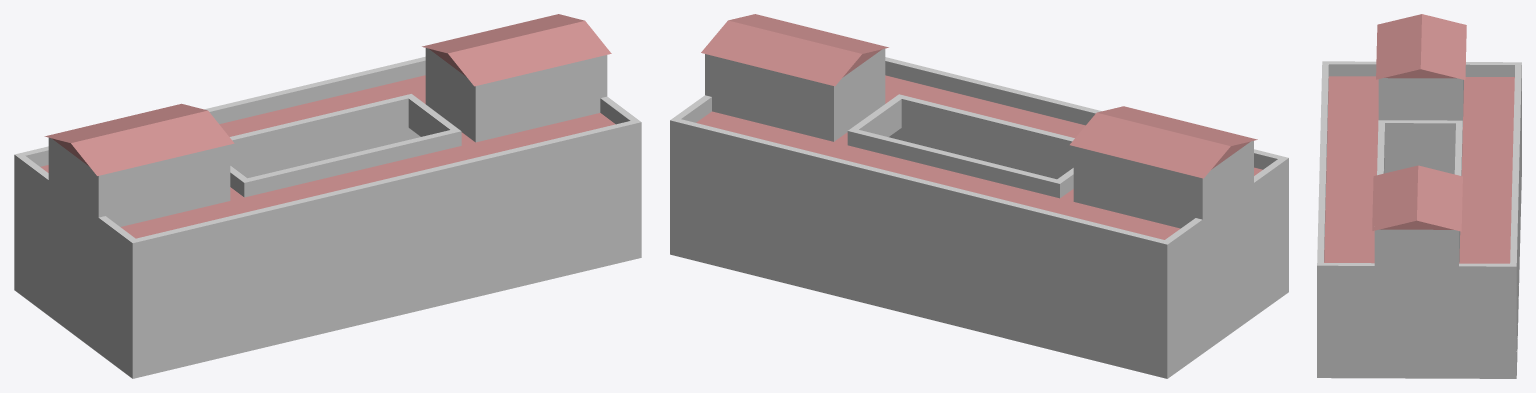
File: LOD_Block_0_80.glb
The picture shows the model from 3 angles, left to right: view 1: azimuth 30°, elevation 25°; view 2: azimuth 150°, elevation 25°; view 3: azimuth 270°, elevation 25°; orthographic projection. The views are drawn at different scales.
Visible parts, largest first — view 1: mesh_CityEngineMaterial_1204; view 2: mesh_CityEngineMaterial_1204; view 3: mesh_CityEngineMaterial_1204.
Part boxes in pixels (left/top/right/bottom): mesh_CityEngineMaterial_1204: left=14, top=14, right=641, bottom=378; mesh_CityEngineMaterial_1204: left=670, top=14, right=1288, bottom=378; mesh_CityEngineMaterial_1204: left=1317, top=14, right=1521, bottom=378.
Size of the model in its own units: 36.71 by 13.15 by 15.35.
